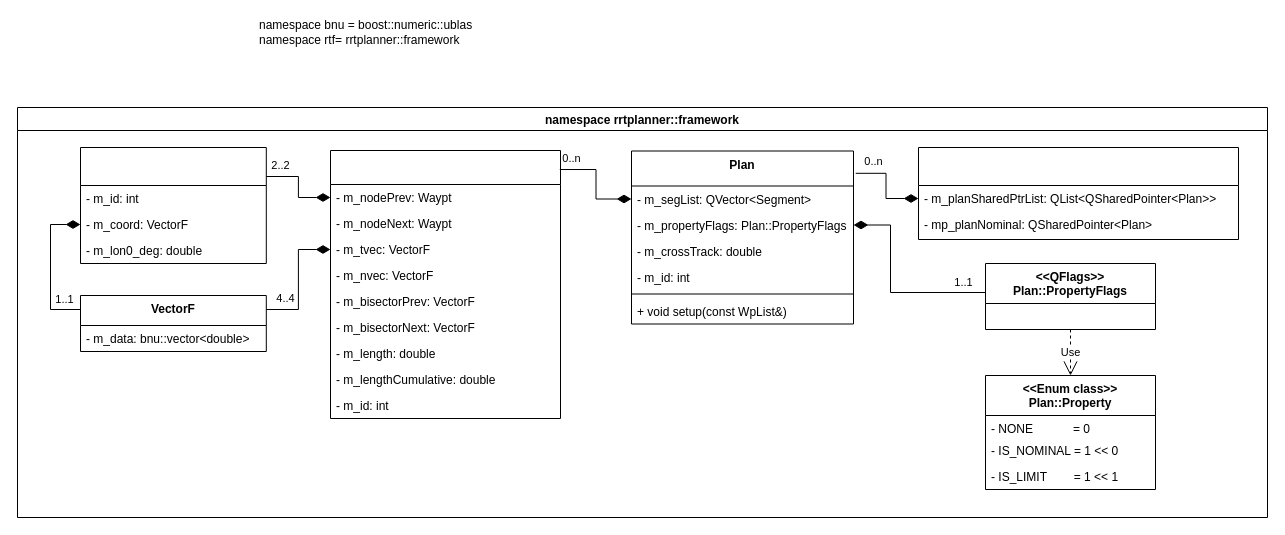
Image size: 1285x535. Some labels were removed from this diagram. Each missing label, with the box of its shape:
EllMap: (918, 146, 1238, 240)
Segment: (330, 150, 560, 418)
Waypt: (80, 146, 266, 264)
